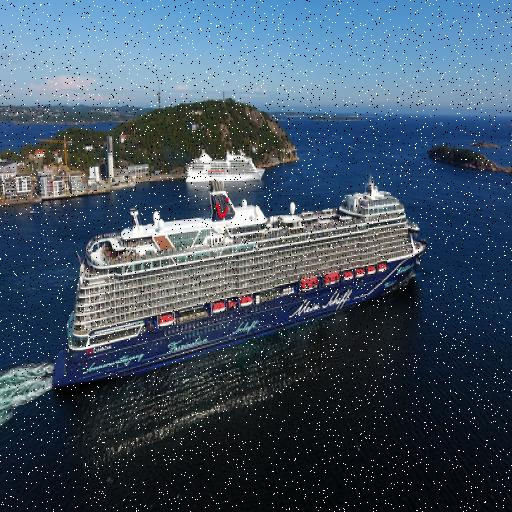cruises: (51, 175, 430, 399), (184, 146, 268, 188)
